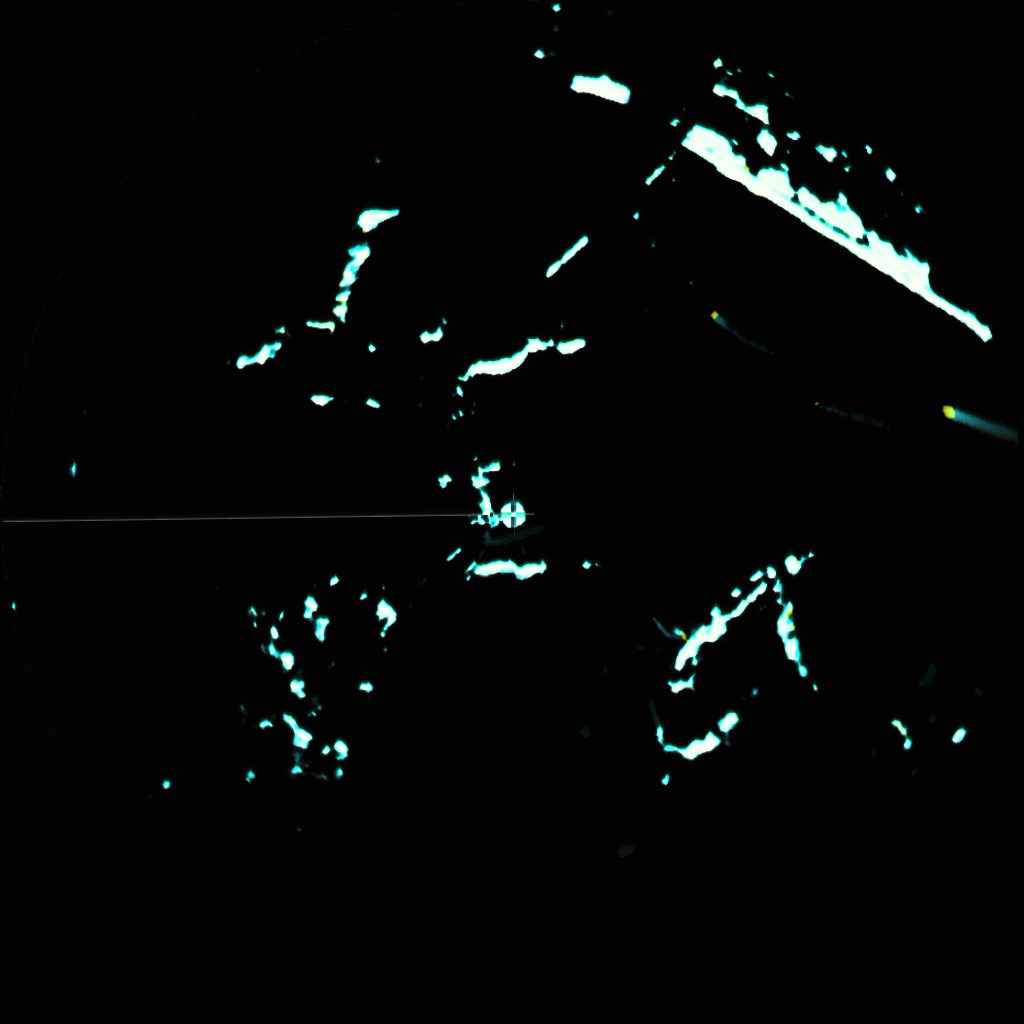B: (941, 403, 1014, 439), (648, 613, 670, 643), (709, 311, 731, 326)
